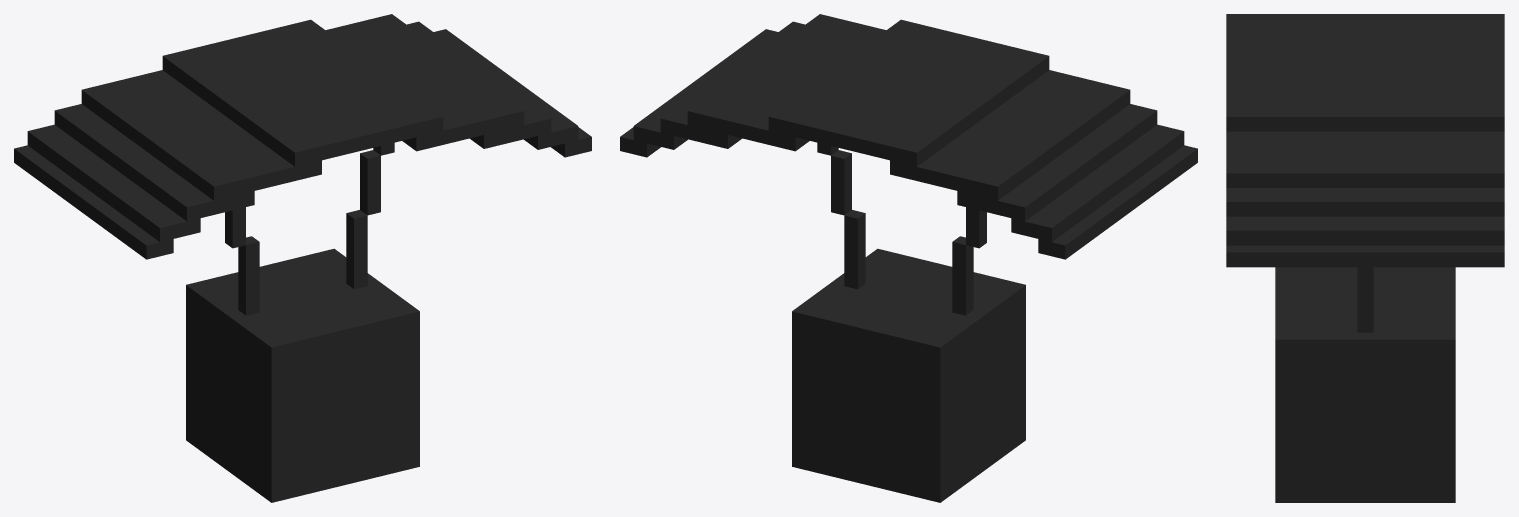
File: supply.obj
3 renders of one model, left to right at view 1: azimuth 30°, elevation 25°; view 2: azimuth 150°, elevation 25°; view 3: azimuth 270°, elevation 25°, orthographic. The views are drawn at different scales.
Bounding box in the file's own units: 3.3 × 2.6 × 1.7.
